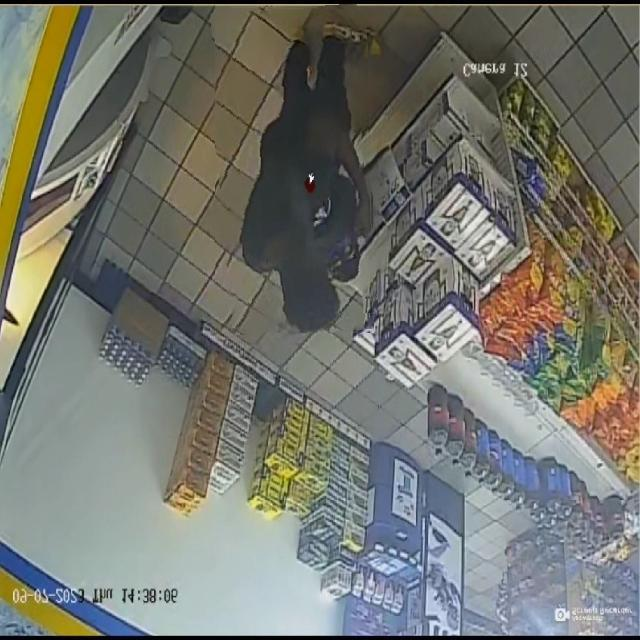Shoplifting: (215, 6, 374, 333)
